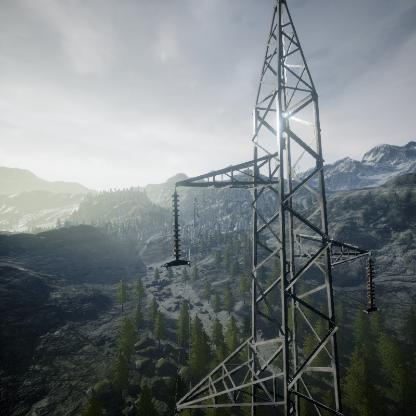insulator: (168, 190, 184, 260), (364, 257, 378, 307)
